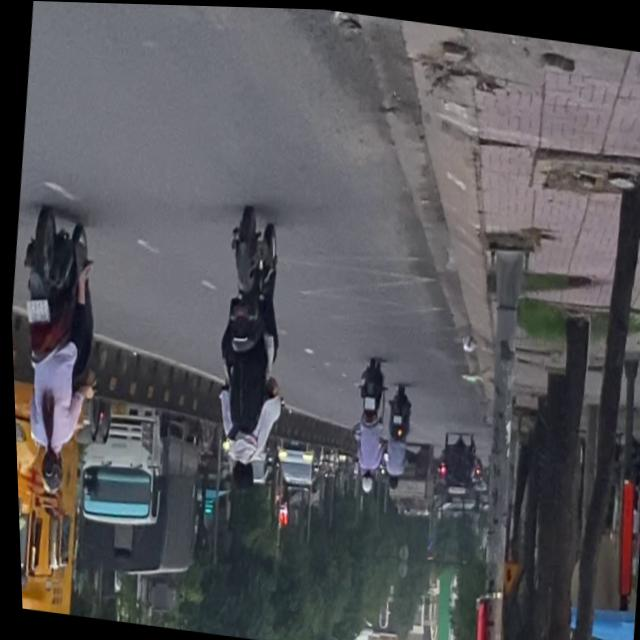helmet: (31, 446, 61, 494)
licenseplate: (194, 202, 299, 500), (6, 202, 109, 499)
motorcyclist: (222, 453, 250, 490)
nohelmet: (21, 298, 46, 322)
